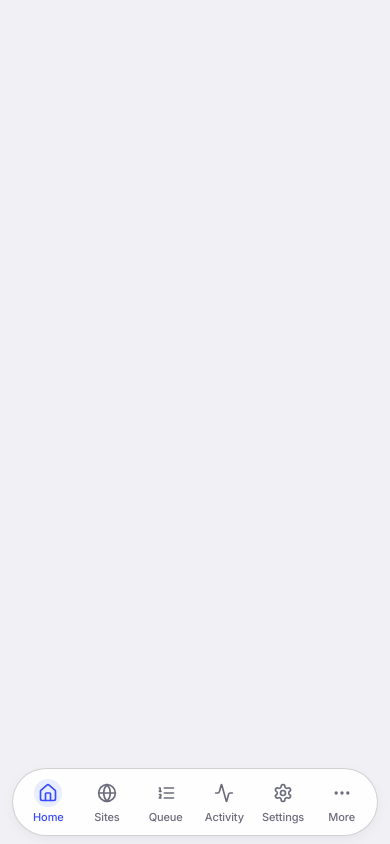
Test case: BottomTabBar — More overflow drawer › closes the drawer when a destination is chosen
The image size is (390, 844).
Click the button "More".
click(342, 802)  # box top-left (312, 772), bottom-right (371, 831)
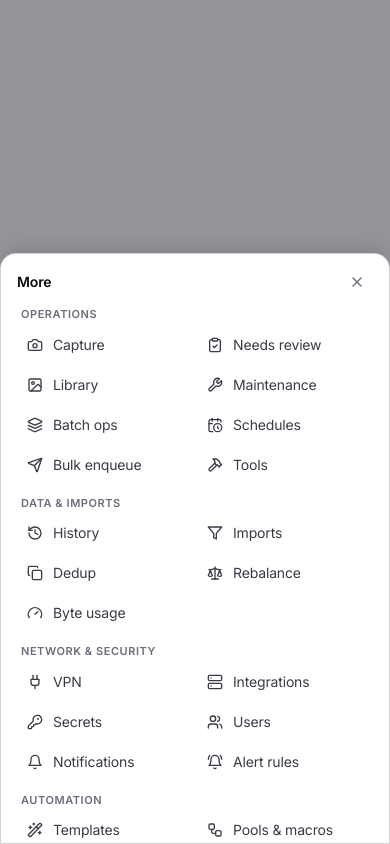
Click the link "Capture".
click(66, 344)  # box top-left (27, 336), bottom-right (105, 353)
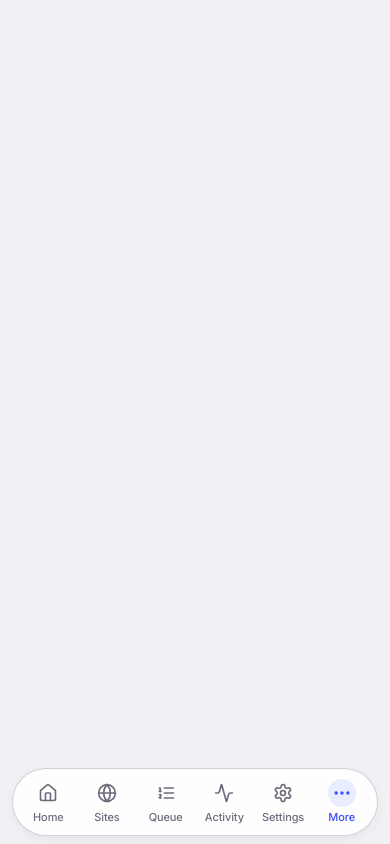
Result: the link "Capture" is gone
